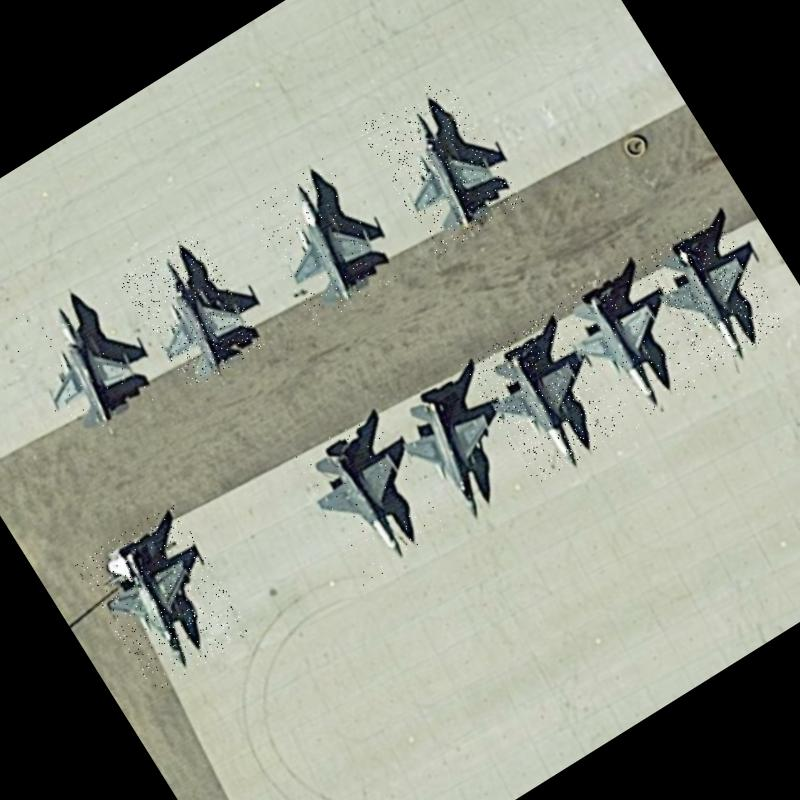A5: (73, 502, 254, 695), (358, 74, 524, 257), (284, 405, 450, 586), (546, 255, 710, 435), (0, 270, 164, 448), (461, 310, 622, 486), (241, 157, 400, 329), (381, 366, 532, 531), (117, 230, 267, 394), (638, 212, 786, 374)
